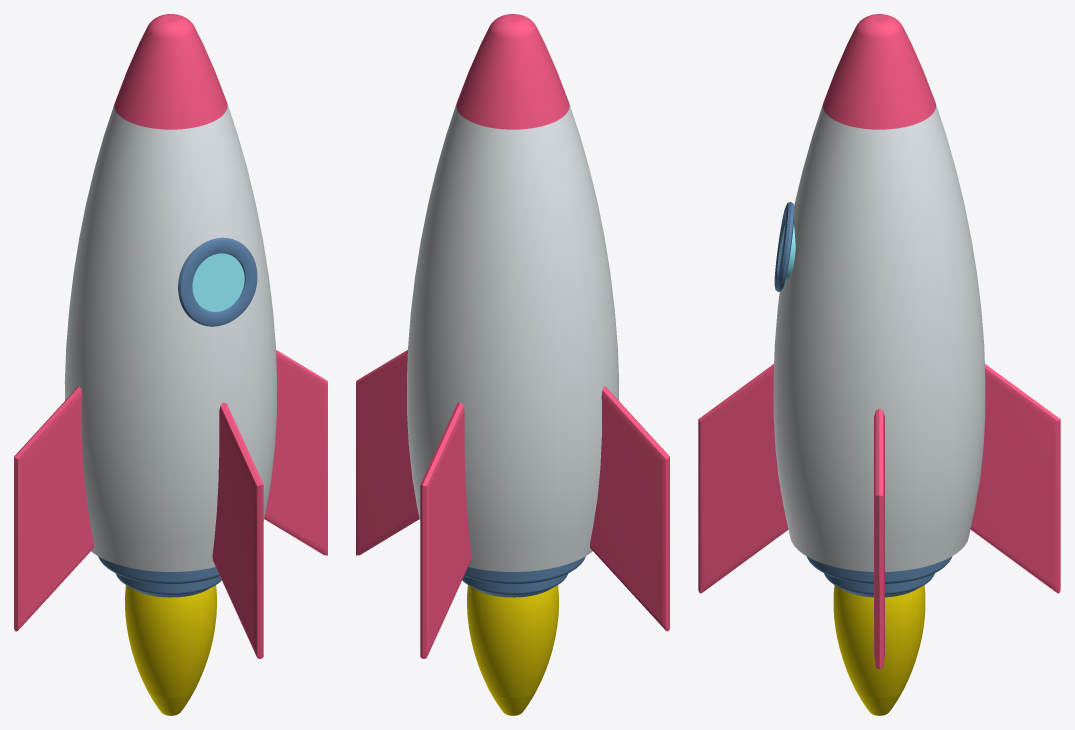
File: rocket.glb
The picture shows the model from 3 angles, left to right: view 1: azimuth 30°, elevation 25°; view 2: azimuth 150°, elevation 25°; view 3: azimuth 270°, elevation 25°; orthographic projection.
Visible parts, largest first — view 1: 005_rocket_body, 002_wings, 003_rocket_body_top, 006_flame, 001_window, 004_engine, 000_glass; view 2: 005_rocket_body, 002_wings, 003_rocket_body_top, 006_flame, 004_engine; view 3: 005_rocket_body, 002_wings, 003_rocket_body_top, 006_flame, 004_engine, 001_window.
Boxes of the visible parts, x1,y1,x2,y2 form: 005_rocket_body: (64,104,277,571); 002_wings: (14,350,327,658); 003_rocket_body_top: (114,14,227,129); 006_flame: (125,585,216,715); 001_window: (178,237,257,326); 004_engine: (98,556,221,597); 000_glass: (192,253,244,311); 005_rocket_body: (406,104,619,571); 002_wings: (356,350,669,658); 003_rocket_body_top: (456,14,569,129); 006_flame: (467,585,558,715); 004_engine: (462,556,585,597); 005_rocket_body: (773,104,985,571); 002_wings: (698,364,1060,669); 003_rocket_body_top: (823,14,935,129); 006_flame: (833,585,925,715); 004_engine: (806,556,952,597); 001_window: (774,202,793,291).
Size of the model in its own units: 69.2 by 147 by 69.2.
